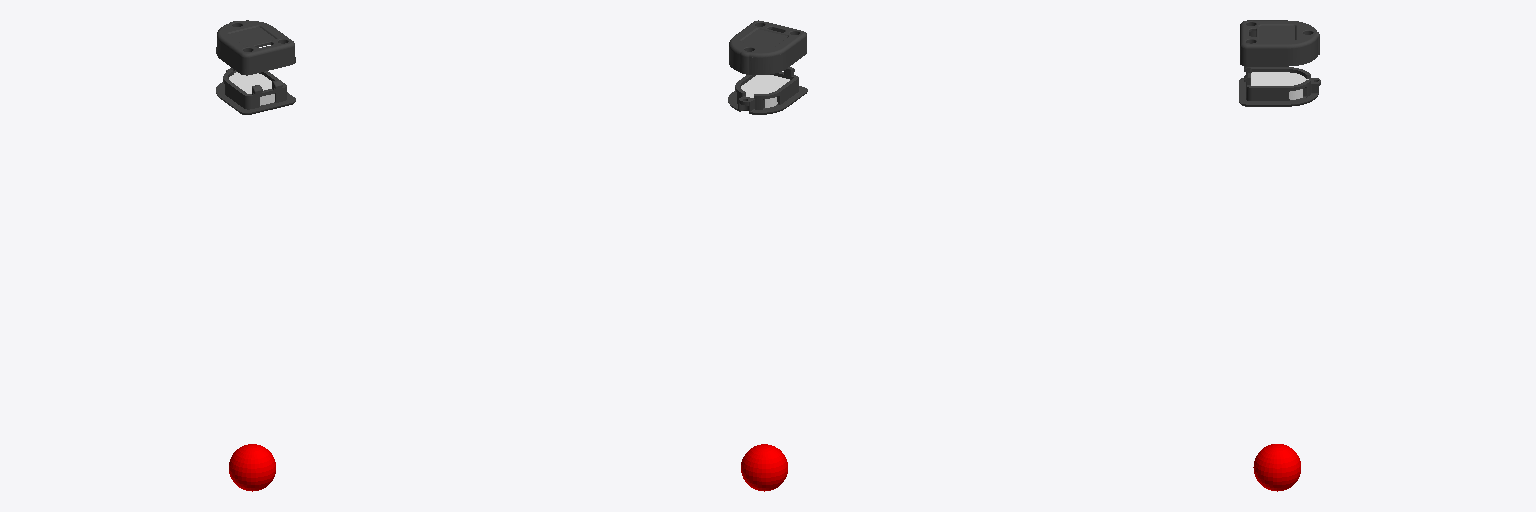
URDF robot description (digit_sensor):
<robot name="digit_sensor">
  <link name="world">
  </link>

  <link name="ball">
    <visual>
      <origin xyz="0.0 0.0 -0.2" rpy="0 0 0" />
      <geometry>
        <sphere radius="0.01"/>
      </geometry>
      <material name="ball_material">
        <color rgba="1.0 0.0 0.0 1.0"/>
      </material>
    </visual>  
    <collision>
      <origin xyz="0.0 0.0 -0.2" rpy="0 0 0"/>
      <geometry>
        <sphere radius="0.01"/>
      </geometry>
    </collision>
  </link>
  
  <joint name = "rail" type = "prismatic">
    <parent link="world"/>    
    <child link="ball"/>    
    <origin xyz="0.0 0.0 0.0"/>    
    <axis xyz="0 0 1"/>    
    <limit lower="0.0" upper="0.22"/>    
    <dynamics damping="0.0" friction="0.0"/>  
  </joint>
	
  <link name="base_link">
    <visual>
      <origin xyz="-1.7347234759768070944e-18 0.0039999999999999992159 -0.02834999999999999673" rpy="0 -0 0" />
      <geometry>
        <mesh filename="../meshes/digit_bottom.stl"/>
      </geometry>
      <material name="digit_bottom_material">
        <color rgba="0.30196078431372547213 0.30196078431372547213 0.30196078431372547213 1.0"/>
      </material>
    </visual>
    <collision>
      <origin xyz="-1.7347234759768070944e-18 0.0039999999999999992159 -0.02834999999999999673" rpy="0 -0 0" />
      <geometry>
        <mesh filename="../meshes/digit_bottom.stl"/>
      </geometry>
    </collision>
    <visual>
      <origin xyz="-1.7347234759768070944e-18 0.0039999999999999992159 -0.02834999999999999673" rpy="0 -0 0" />
      <geometry>
        <mesh filename="../meshes/digit_top.stl"/>
      </geometry>
      <material name="digit_top_material">
        <color rgba="0.30196078431372547213 0.30196078431372547213 0.30196078431372547213 1.0"/>
      </material>
    </visual>
    <collision>
      <origin xyz="-1.7347234759768070944e-18 0.0039999999999999992159 -0.02834999999999999673" rpy="0 -0 0" />
      <geometry>
        <mesh filename="../meshes/digit_top.stl"/>
      </geometry>
    </collision>
    <visual>
      <origin xyz="5.2041704279304212832e-18 0.0054726271455008993969 -0.02834999999999999673" rpy="0 -0 0" />
      <geometry>
        <mesh filename="../meshes/acrylic_window.stl"/>
      </geometry>
      <material name="acrylic_window_material">
        <color rgba="0.91764705882352937127 0.91764705882352937127 0.91764705882352937127 1.0"/>
      </material>
    </visual>
    <collision>
      <origin xyz="5.2041704279304212832e-18 0.0054726271455008993969 -0.02834999999999999673" rpy="0 -0 0" />
      <geometry>
        <mesh filename="../meshes/acrylic_window.stl"/>
      </geometry>
    </collision>
    <visual>
      <origin xyz="-1.7347234759768070944e-18 0.0039999999999999992159 -0.02834999999999999673" rpy="0 -0 0" />
      <geometry>
        <mesh filename="../meshes/digit_center.stl"/>
      </geometry>
      <material name="digit_center_material">
        <color rgba="0.30196078431372547213 0.30196078431372547213 0.30196078431372547213 1.0"/>
      </material>
    </visual>
    <collision>
      <origin xyz="-1.7347234759768070944e-18 0.0039999999999999992159 -0.02834999999999999673" rpy="0 -0 0" />
      <geometry>
        <mesh filename="../meshes/digit_center.stl"/>
      </geometry>
    </collision>
    <inertial>
      <origin xyz="5.6323307647757419518e-09 -0.00036540399288771023903 -0.017222829703969658871" rpy="0 0 0"/>
      <mass value="0.011202999387148686317" />
      <inertia ixx="1.9653017696085393998e-06" ixy="-2.4773685713267990325e-12"  ixz="1.0361262631289354413e-11" iyy="1.6086288436632567192e-06" iyz="3.4152009468066426172e-09" izz="1.8792541631746658267e-06" />
    </inertial>
  </link>

  <joint name="base" type="fixed">
    <origin xyz="0 0 0" rpy="0 -0 0" />
    <parent link="world" />
    <child link="base_link" />
    <axis xyz="0 0 1"/>
    <limit effort="1" velocity="20" />
    <joint_properties friction="0.0"/>
  </joint>
  
  <link name="elastomer">
    <fem>
      <origin xyz="0.0 0.00544122 -0.03035" rpy="0 -0 0" />
      <density value="1e3"/>
      <youngs value="1552230.93"/>
      <poissons value="0.3164528"/>
      <damping value="0.0"/>
      <attachDistance value="1.0e-4"/>
      <tetmesh filename="../meshes/elastomer.tet"/>
    </fem>
  </link>

  <joint name="attach" type="fixed">
    <origin xyz="5.2041704279304212832e-18 -0.011792651350691449319 -0.0283500000000000002" rpy="0 -0 0" />
    <parent link="base_link" />
    <child link="elastomer" />
    <axis xyz="0 0 1"/>
    <limit effort="1" velocity="20" />
    <joint_properties friction="0.0"/>
  </joint>

</robot>

--- Render facts (derived) ---
Views: 3 orthographic renders of the robot side by side, from view 1: azimuth 30°, elevation 25°; view 2: azimuth 150°, elevation 25°; view 3: azimuth 270°, elevation 25°.
Robot: digit_sensor — 4 links, 3 joints (1 prismatic, 2 fixed); root link world; default pose: all joints at 0.
Visible links, largest first — view 1: base_link, ball; view 2: base_link, ball; view 3: base_link, ball.
Link boxes in pixels (x1,y1,x2,y2): base_link: [216, 20, 295, 114]; ball: [229, 444, 275, 491]; base_link: [728, 20, 807, 114]; ball: [741, 444, 787, 491]; base_link: [1239, 20, 1320, 106]; ball: [1253, 444, 1300, 491].
Bounding box of the posed robot: 0.0269 × 0.034 × 0.21 m (x, y, z).
3 mesh visuals loaded from 4 distinct referenced files (3 binary STL); not drawn: 1 (reference not matched to a file when rendering).
